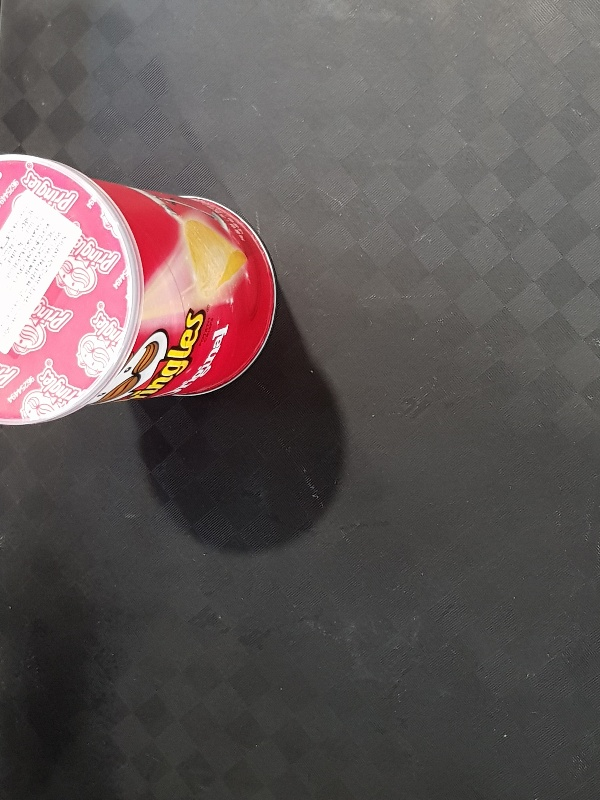Pringles Original: (1, 152, 278, 427)
